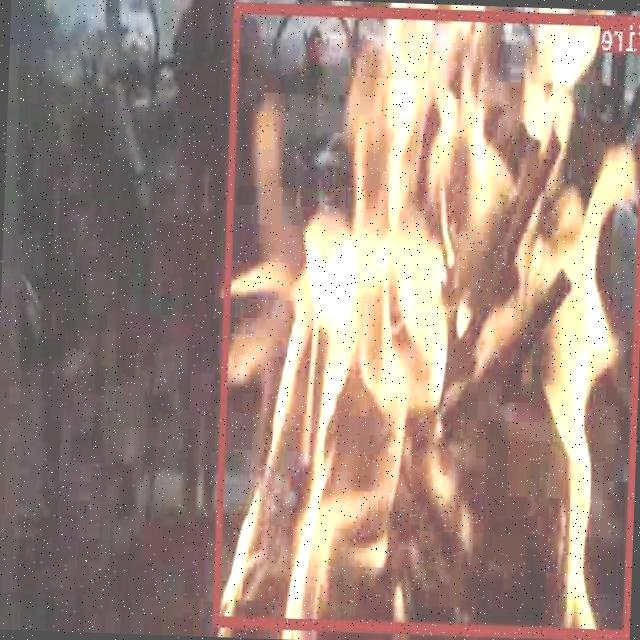fire: (213, 0, 640, 639)
